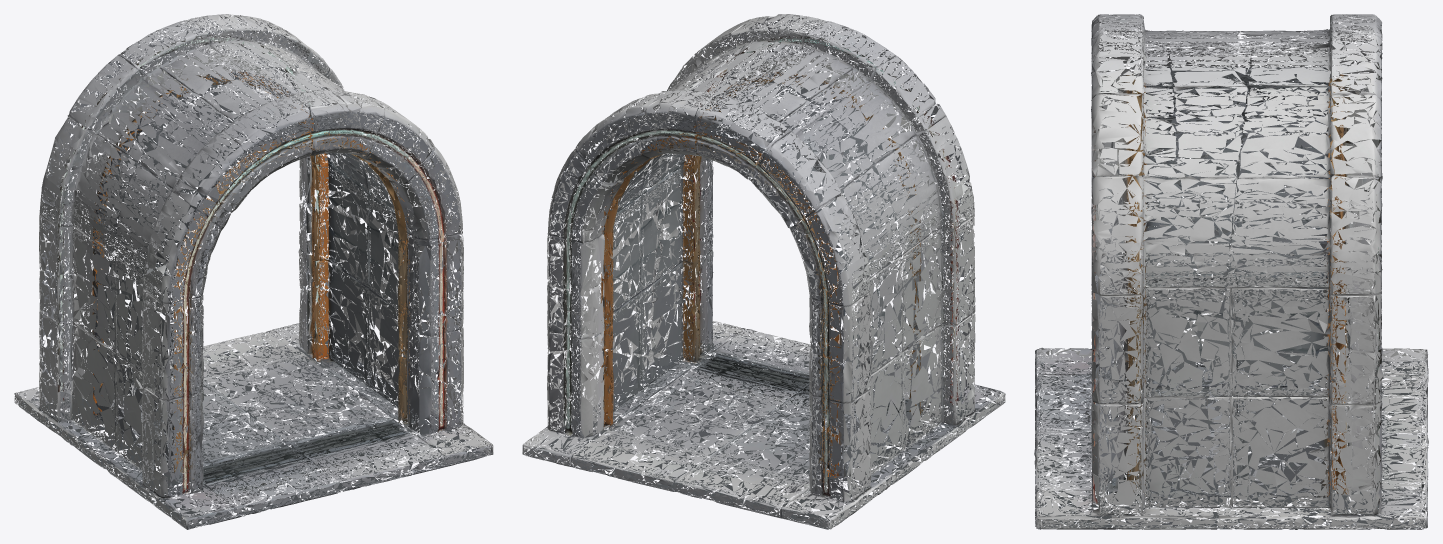
The model's file is env_tunnel_arch.glb.
3 views of the same model, side by side, from view 1: azimuth 30°, elevation 25°; view 2: azimuth 150°, elevation 25°; view 3: azimuth 270°, elevation 25° (orthographic). The views are drawn at different scales.
Visible parts, largest first — view 1: tripo_node_a0b694c4-ccb0-420d-89b2-6fa975061d68; view 2: tripo_node_a0b694c4-ccb0-420d-89b2-6fa975061d68; view 3: tripo_node_a0b694c4-ccb0-420d-89b2-6fa975061d68.
Part boxes in pixels (x1,y1,x2,y2): tripo_node_a0b694c4-ccb0-420d-89b2-6fa975061d68: [14, 14, 493, 529]; tripo_node_a0b694c4-ccb0-420d-89b2-6fa975061d68: [522, 14, 1005, 529]; tripo_node_a0b694c4-ccb0-420d-89b2-6fa975061d68: [1034, 14, 1428, 529].
Size of the model in its own units: 0.8624 by 0.9838 by 0.8456.
1 material, 1 textured.
